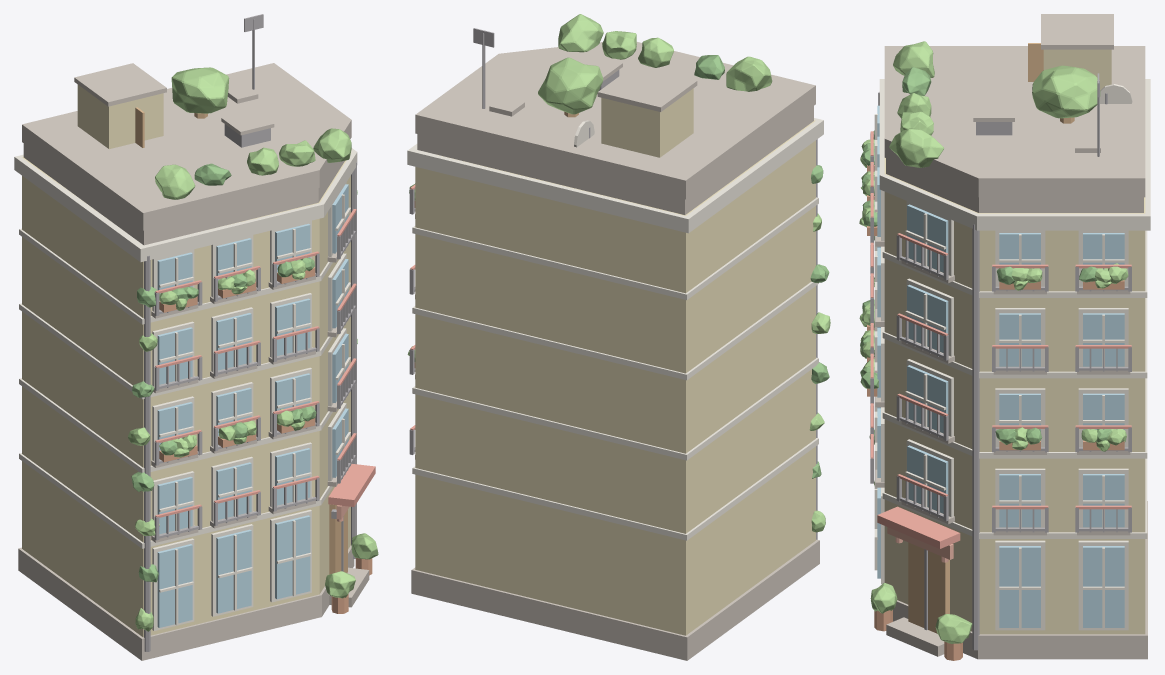
The model's file is Building_Corner_C.fbx.
3 views of the same model, side by side, from view 1: azimuth 30°, elevation 25°; view 2: azimuth 150°, elevation 25°; view 3: azimuth 270°, elevation 25° (orthographic). The views are drawn at different scales.
Parts seen in each view (by area): view 1: Building_Corner_C, Building_Corner_C_Veg; view 2: Building_Corner_C, Building_Corner_C_Veg; view 3: Building_Corner_C, Building_Corner_C_Veg.
Boxes of the visible parts, x1=… form: Building_Corner_C: x1=14, y1=14, x2=375, y2=660; Building_Corner_C_Veg: x1=128, y1=67, x2=378, y2=631; Building_Corner_C: x1=407, y1=28, x2=823, y2=660; Building_Corner_C_Veg: x1=407, y1=14, x2=830, y2=532; Building_Corner_C: x1=870, y1=14, x2=1150, y2=659; Building_Corner_C_Veg: x1=859, y1=41, x2=1128, y2=660.
Bounding box in the file's own units: 6.77 × 11.8 × 5.59.
